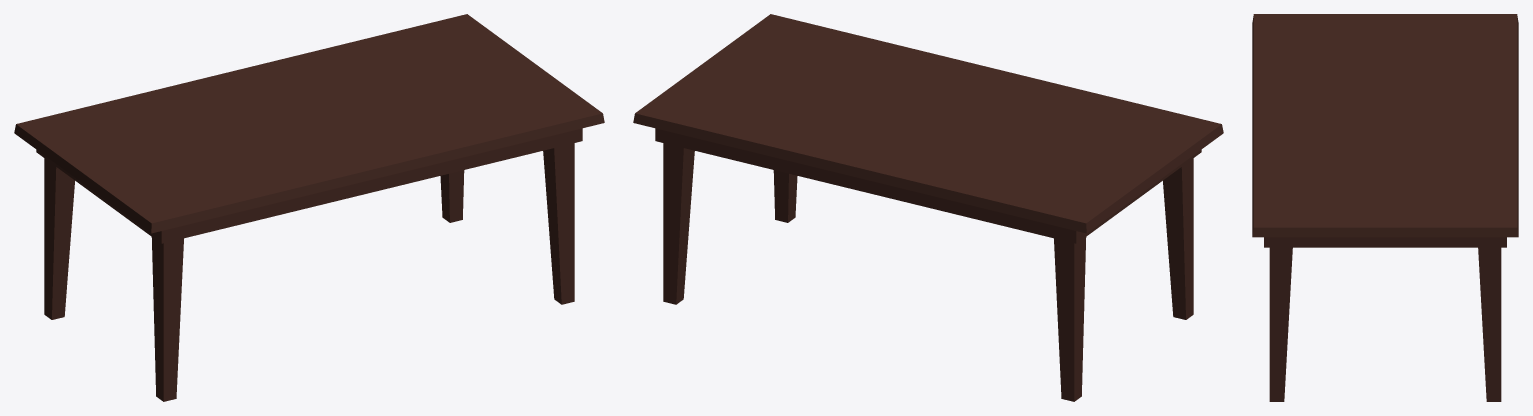
Rendered from Wooden Table.fbx.
3 views of the same model, side by side, from view 1: azimuth 30°, elevation 25°; view 2: azimuth 150°, elevation 25°; view 3: azimuth 270°, elevation 25° (orthographic). The views are drawn at different scales.
Parts seen in each view (by area): view 1: Wooden Table; view 2: Wooden Table; view 3: Wooden Table.
Boxes of the visible parts, left/top/right/bottom form: Wooden Table: left=14, top=14, right=604, bottom=401; Wooden Table: left=633, top=14, right=1223, bottom=401; Wooden Table: left=1252, top=14, right=1518, bottom=401.
Bounding box in the file's own units: 238 × 94.92 × 124.
